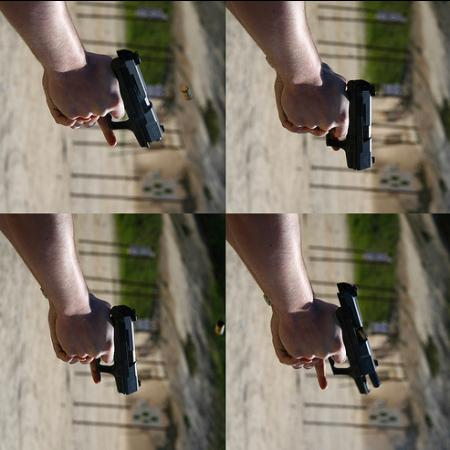Pistol: (328, 279, 388, 393), (108, 48, 168, 144), (325, 78, 377, 170), (98, 301, 146, 392)
